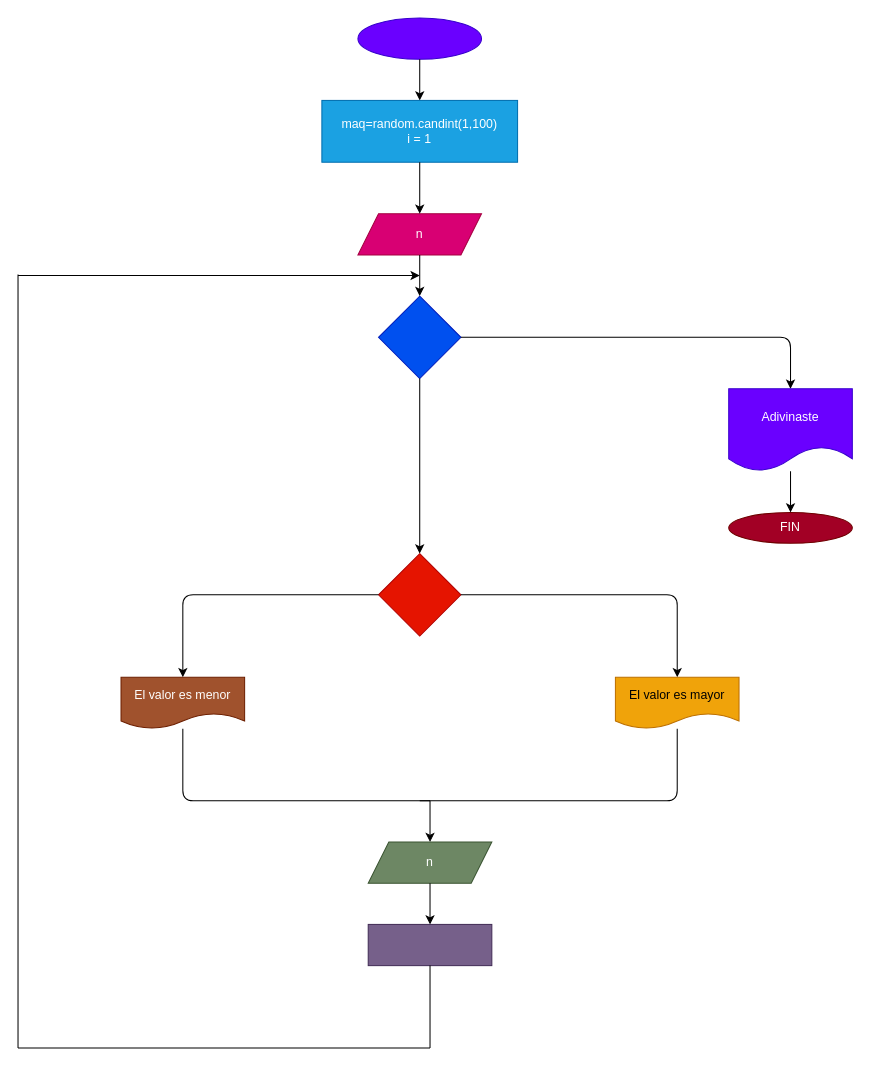
This 870x1067 diagram has some shape labels left out. The shapes that lost their labels are listed below. From the top down, each one's centre as x and y in pixels, then its label:
At pixel 419 38: "INICIO".
At pixel 419 337: "n!=maq".
At pixel 419 594: "maq>usu".
At pixel 429 944: "i = i + 1".
